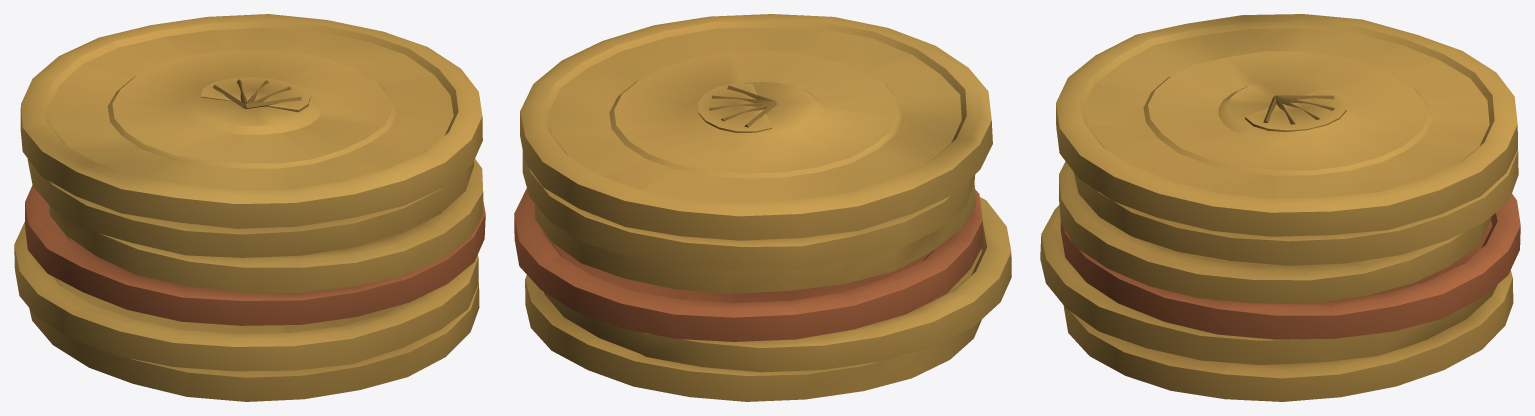
Rendered from grotto_coin_stack_c.glb.
3 renders of one model, left to right at view 1: azimuth 30°, elevation 25°; view 2: azimuth 150°, elevation 25°; view 3: azimuth 270°, elevation 25°, orthographic.
Parts seen in each view (by area): view 1: grotto_coin_stack_c; view 2: grotto_coin_stack_c; view 3: grotto_coin_stack_c.
Part boxes in pixels (x1,y1,x2,y2): grotto_coin_stack_c: (14, 14, 485, 401); grotto_coin_stack_c: (514, 14, 1011, 401); grotto_coin_stack_c: (1040, 14, 1520, 401).
Bounding box in the file's own units: 5.69 × 2.77 × 5.66.
